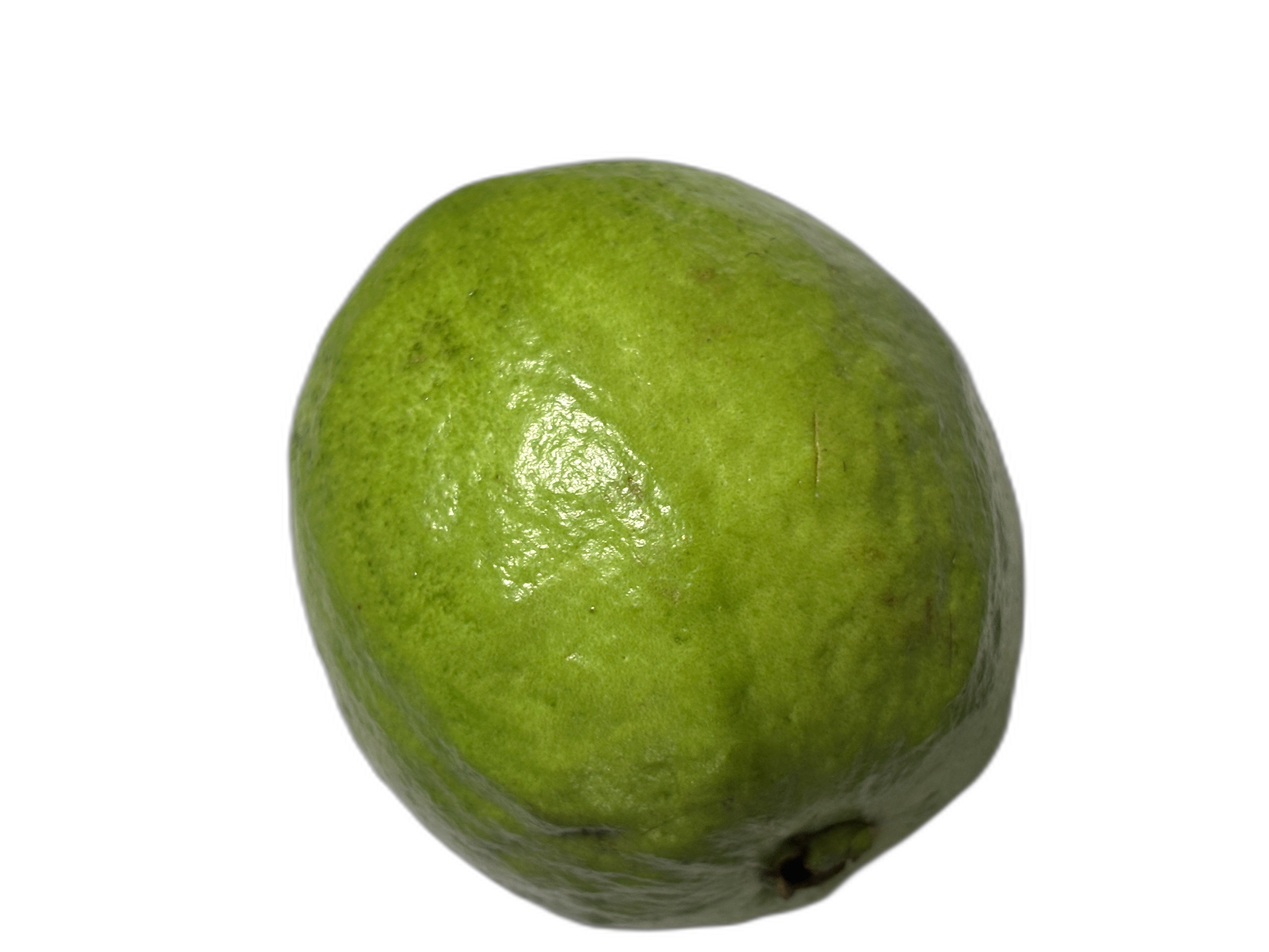guava: (124, 238, 1227, 859)
